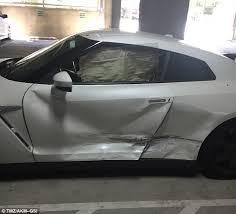doorouter-dent: (52, 89, 168, 156)
